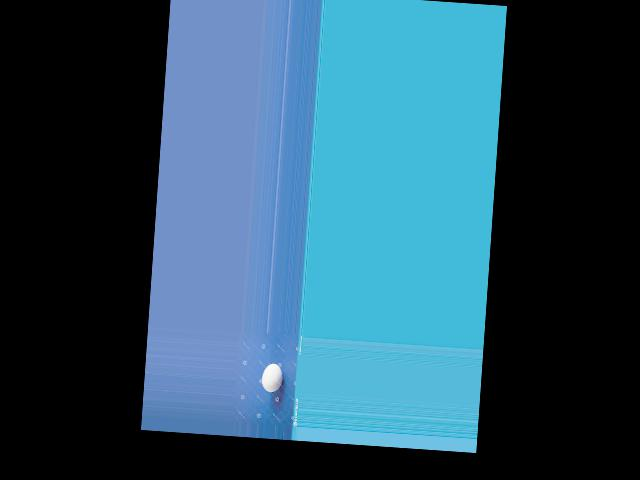egg: (261, 362, 283, 392)
